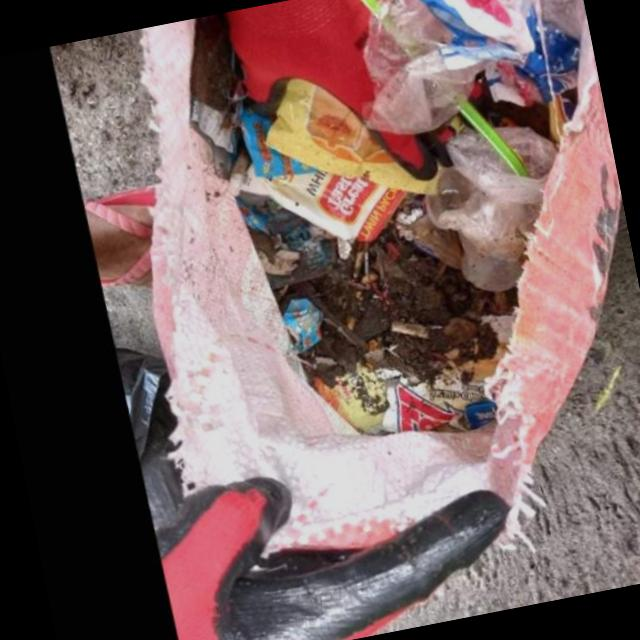bao_bi_thuc_pham: (262, 75, 440, 190)
goi_nhua_nho: (238, 160, 403, 239)
ong_hut_nhua: (455, 95, 524, 173)
tui_ni_long: (420, 119, 553, 287)
